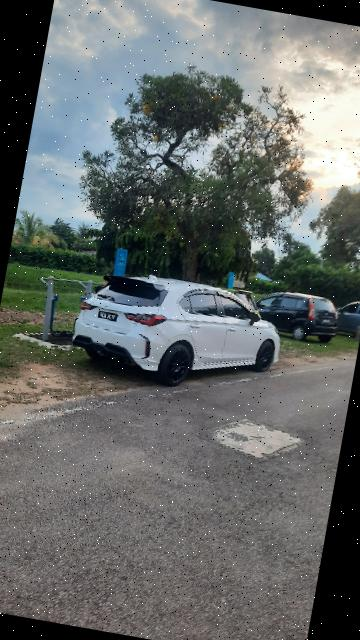License_Plate: (97, 311, 120, 325)
car: (68, 261, 294, 405)
